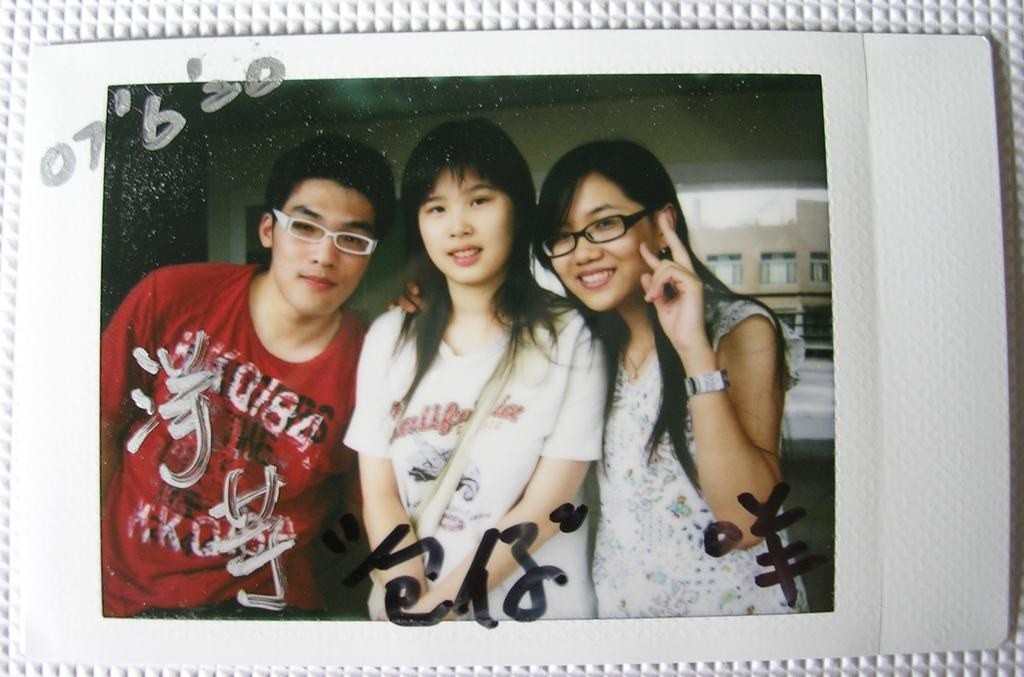Sem Máscara: (549, 172, 658, 308), (269, 175, 378, 308), (414, 168, 513, 280)
